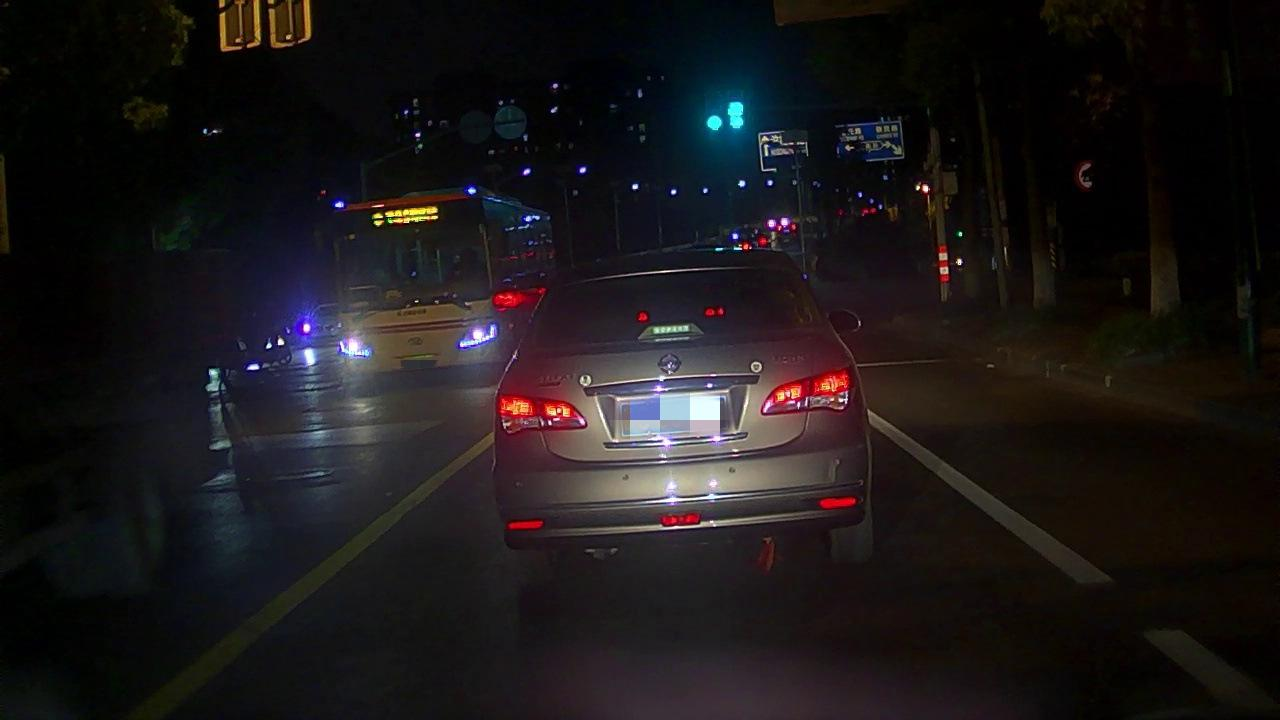traffic_light: (728, 93, 746, 135), (706, 94, 724, 133)
